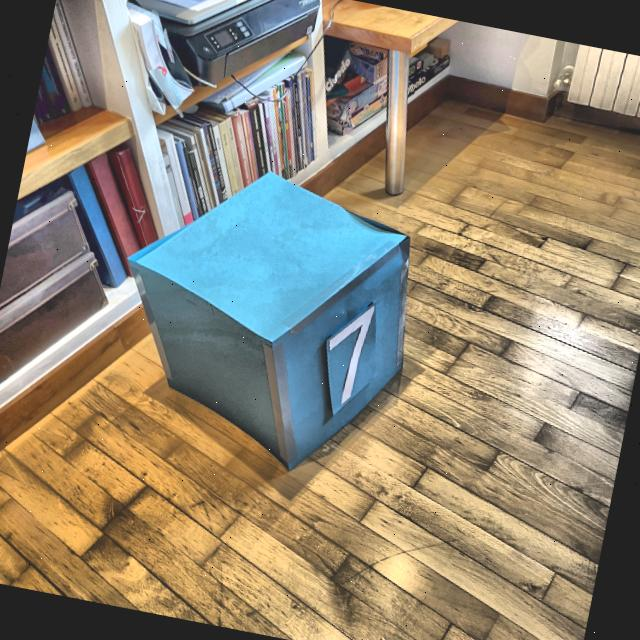blue box: (98, 142, 439, 492)
seven: (313, 296, 381, 408)
